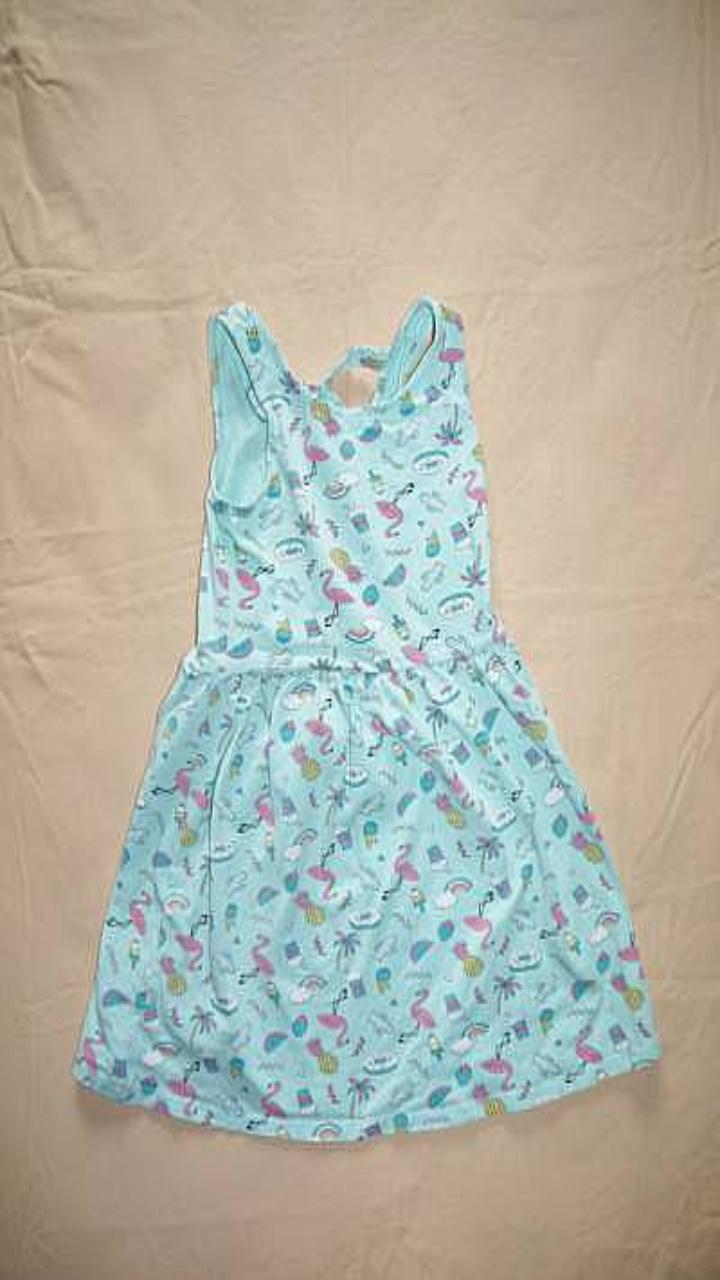Dresses: (72, 294, 660, 1141)
